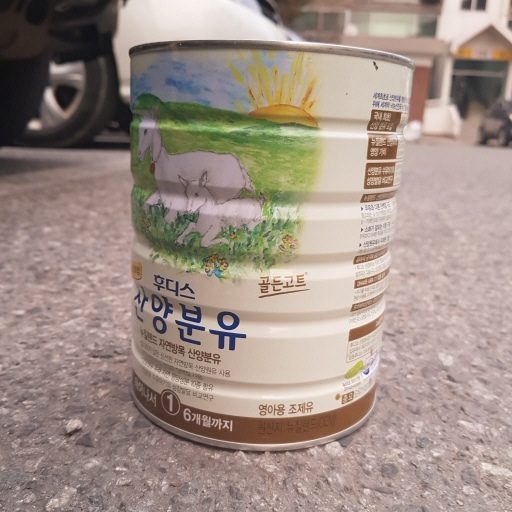Metal_1: (125, 38, 417, 450)
